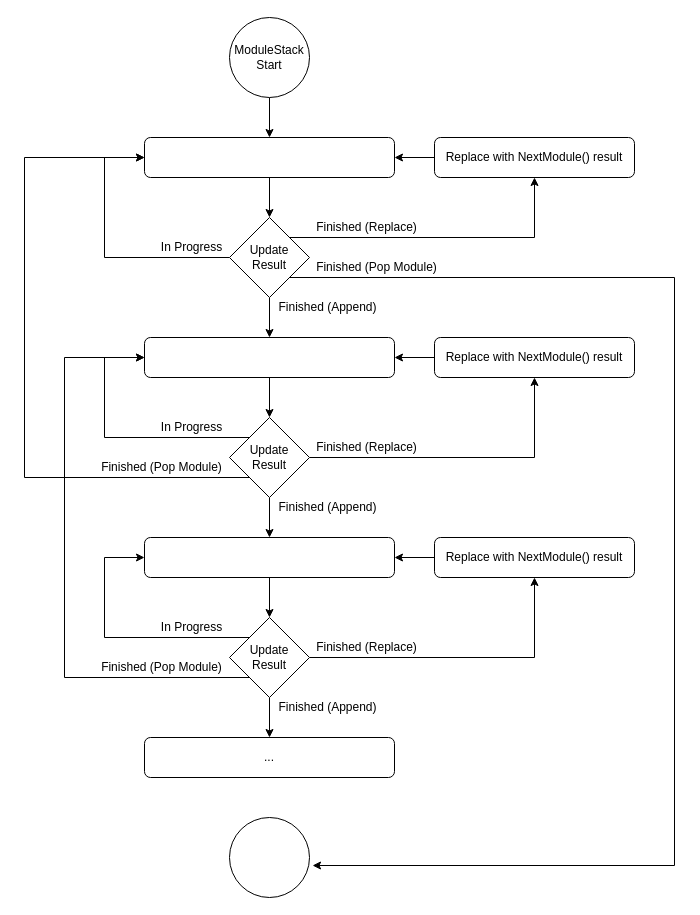
The diagram is 700 pixels wide and 915 high, and some of its shapes have lost their labels. The shapes that lost their labels are listed below. From the top down, each one's centre as x and y in pixels, then its label:
the point at 269,157: Top Module
the point at 269,357: Module 2
the point at 269,557: Module 3
the point at 269,857: ModuleStack Close App
